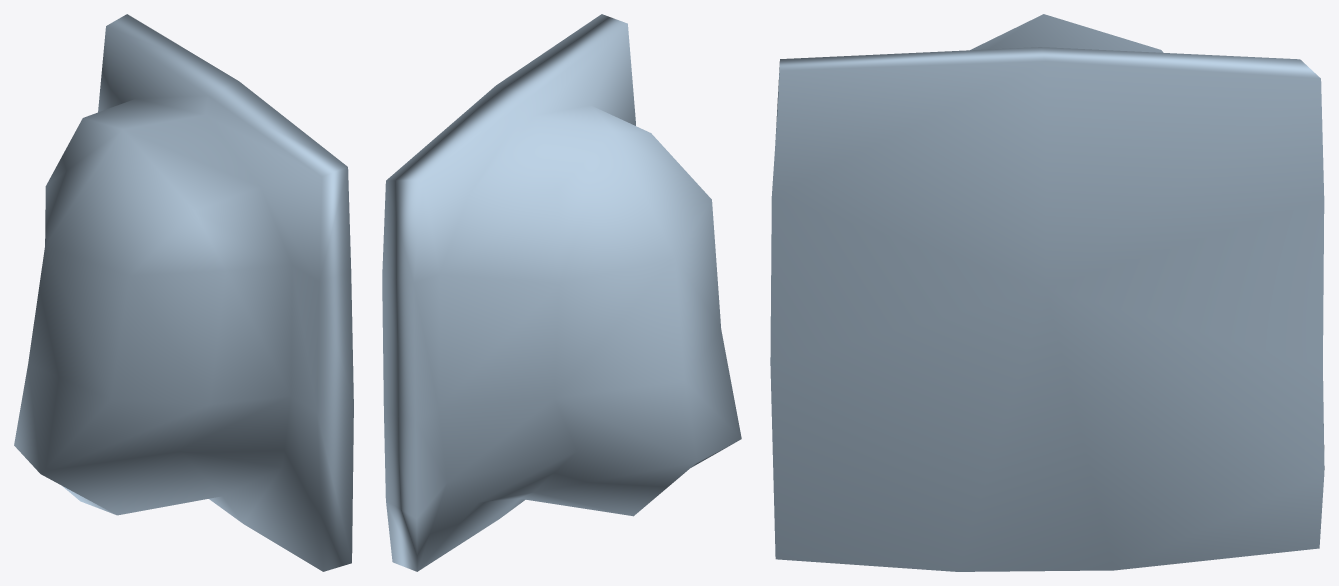
The model's file is Statue_07_Lod1.fbx.
3 renders of one model, left to right at view 1: azimuth 30°, elevation 25°; view 2: azimuth 150°, elevation 25°; view 3: azimuth 270°, elevation 25°, orthographic. The views are drawn at different scales.
Visible parts, largest first — view 1: Statue_07_Lod1; view 2: Statue_07_Lod1; view 3: Statue_07_Lod1.
Part boxes in pixels (x1,y1,x2,y2): Statue_07_Lod1: [14, 14, 353, 571]; Statue_07_Lod1: [382, 14, 741, 571]; Statue_07_Lod1: [770, 14, 1324, 571].
Size of the model in its own units: 37.63 by 64.97 by 64.18.
